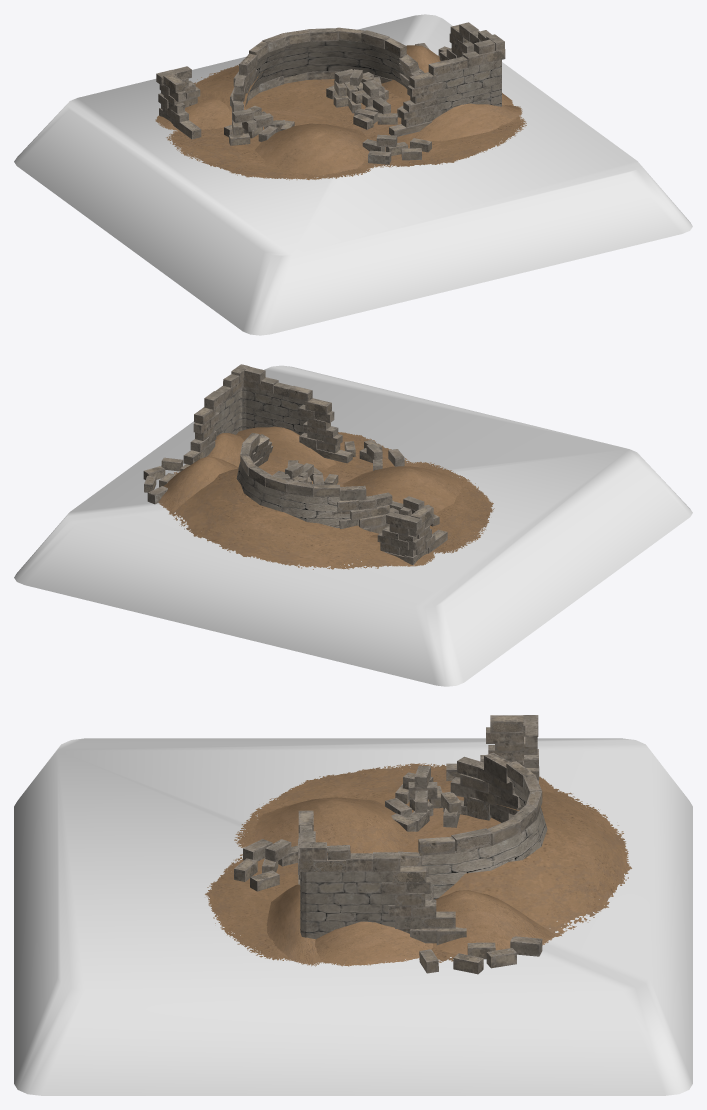
The model's file is Limestone Burner Construction Stage 2.fbx.
The picture shows the model from 3 angles, top to bottom: view 1: azimuth 30°, elevation 25°; view 2: azimuth 150°, elevation 25°; view 3: azimuth 270°, elevation 25°; orthographic projection. The views are drawn at different scales.
Visible parts, largest first — view 1: Limestone_Burner_Base_Construction_S2, Limestone_Burner_Construction_S2; view 2: Limestone_Burner_Base_Construction_S2, Limestone_Burner_Construction_S2; view 3: Limestone_Burner_Base_Construction_S2, Limestone_Burner_Construction_S2.
Part boxes in pixels (x1,y1,x2,y2): Limestone_Burner_Base_Construction_S2: (14,14,692,335); Limestone_Burner_Construction_S2: (155,22,526,180); Limestone_Burner_Base_Construction_S2: (14,365,692,686); Limestone_Burner_Construction_S2: (143,364,494,569); Limestone_Burner_Base_Construction_S2: (14,738,692,1095); Limestone_Burner_Construction_S2: (205,715,631,974).
Size of the model in its own units: 796 by 229 by 758.
